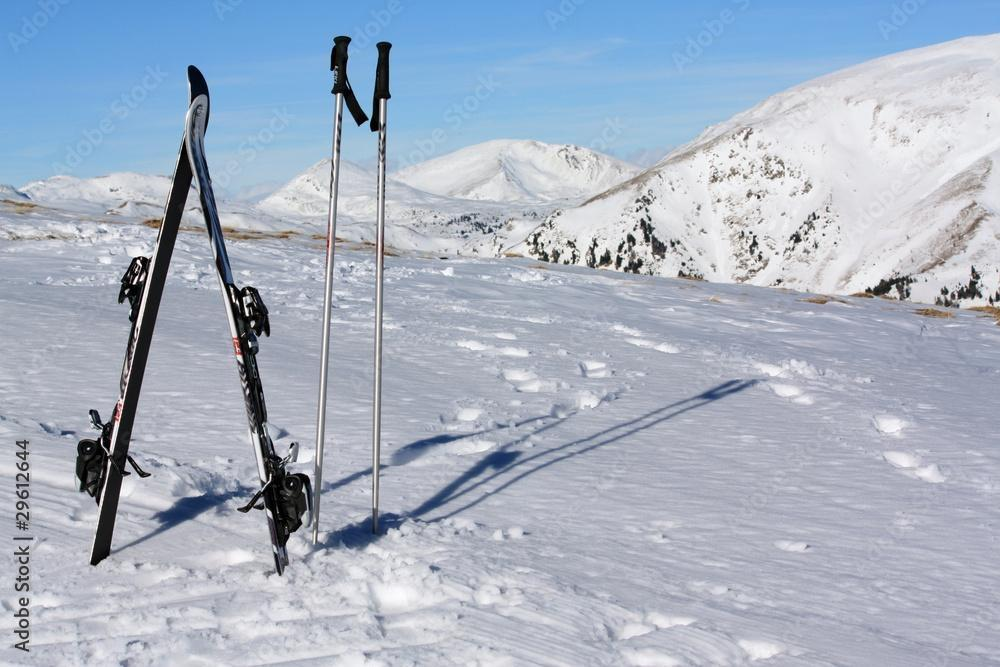Skis: (62, 15, 440, 577)
